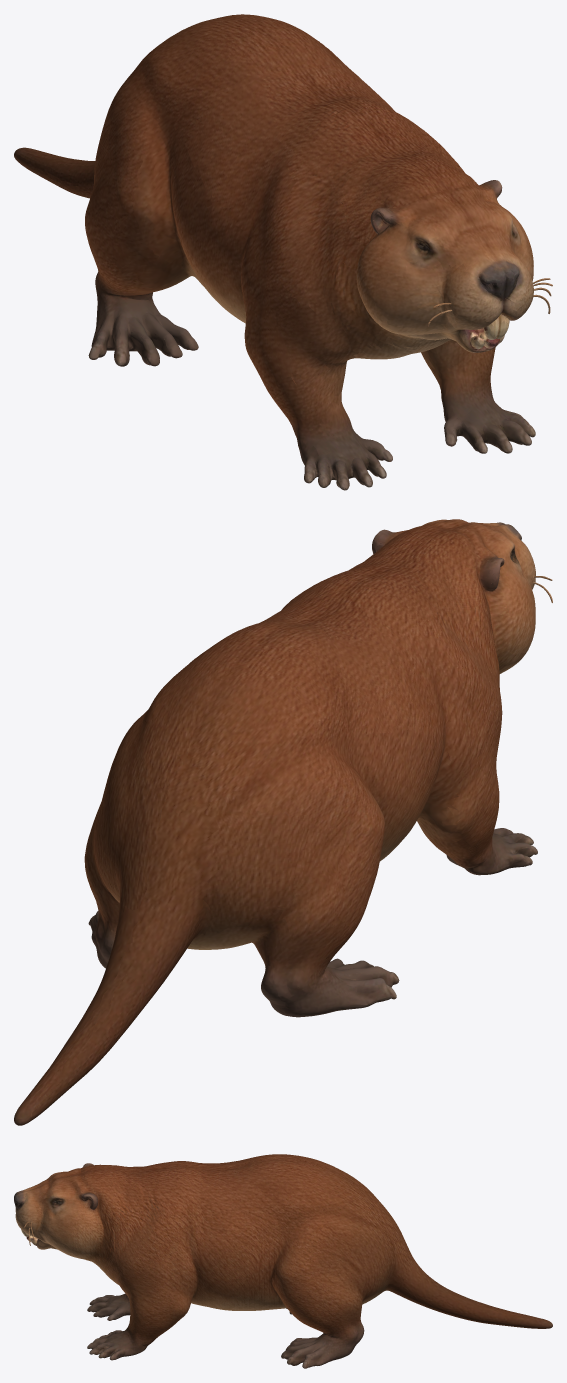
The picture shows the model from 3 angles, top to bottom: view 1: azimuth 30°, elevation 25°; view 2: azimuth 150°, elevation 25°; view 3: azimuth 270°, elevation 25°; orthographic projection. The views are drawn at different scales.
Visible parts, largest first — view 1: Authored orientation; view 2: Authored orientation; view 3: Authored orientation.
Part boxes in pixels (x1=…): Authored orientation: x1=14, y1=14, x2=552, y2=490; Authored orientation: x1=14, y1=519, x2=552, y2=1125; Authored orientation: x1=14, y1=1154, x2=552, y2=1368.
Size of the model in its own units: 0.7486 by 0.7357 by 2.08.
1 material, 1 textured.
